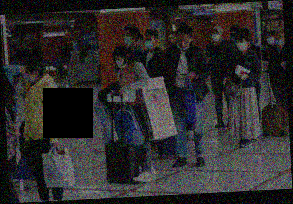mask_weared_incorrect: (177, 36, 190, 52), (274, 31, 285, 46)
with_mask: (22, 68, 34, 84), (115, 55, 127, 68), (144, 35, 155, 49), (237, 38, 247, 52), (124, 31, 133, 45), (212, 30, 222, 42), (266, 33, 275, 46)
without_mask: (169, 34, 177, 47)
